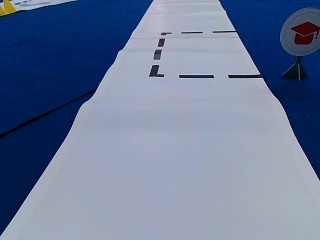school: (279, 7, 318, 56)
